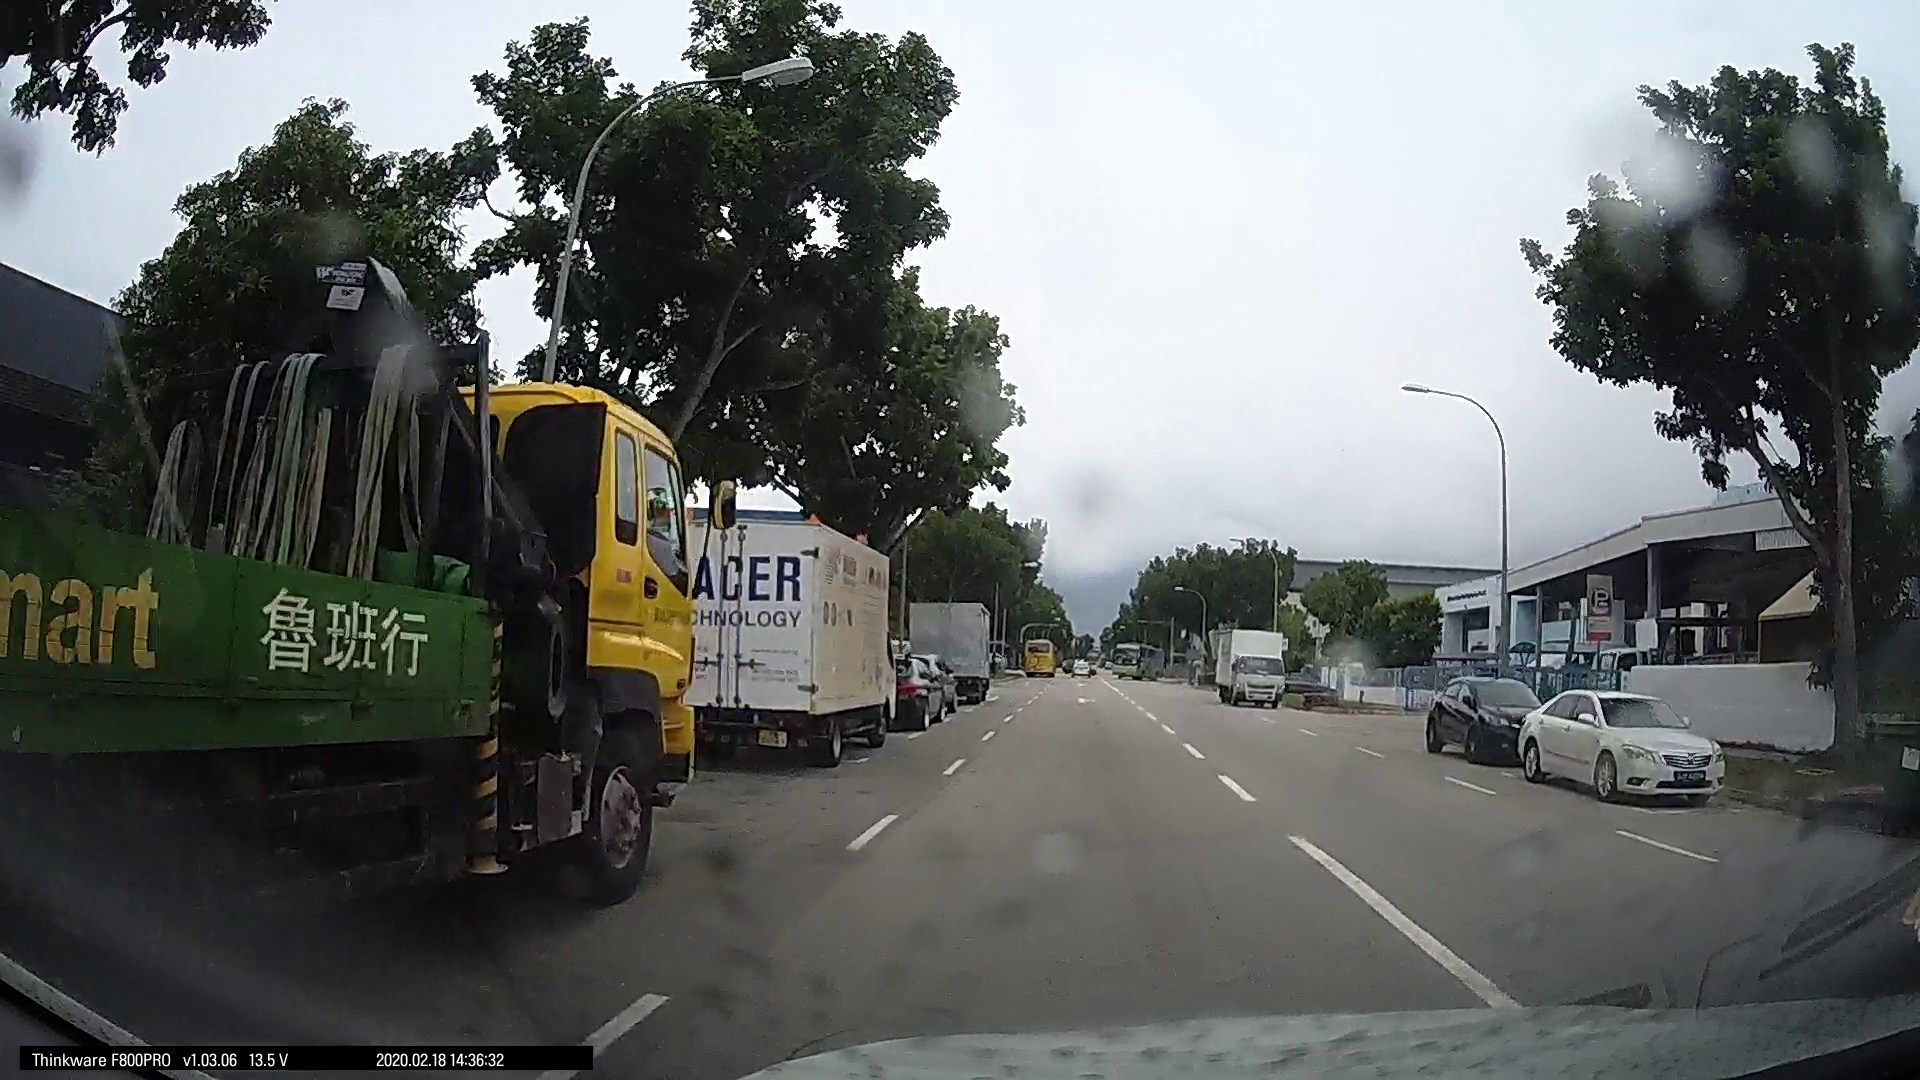Heavy Vehicle: (87, 319, 742, 939), (676, 506, 899, 771), (899, 588, 988, 703), (1213, 628, 1284, 708)
Light Vehicle: (1506, 682, 1726, 807), (1422, 673, 1534, 764), (889, 644, 947, 727)
